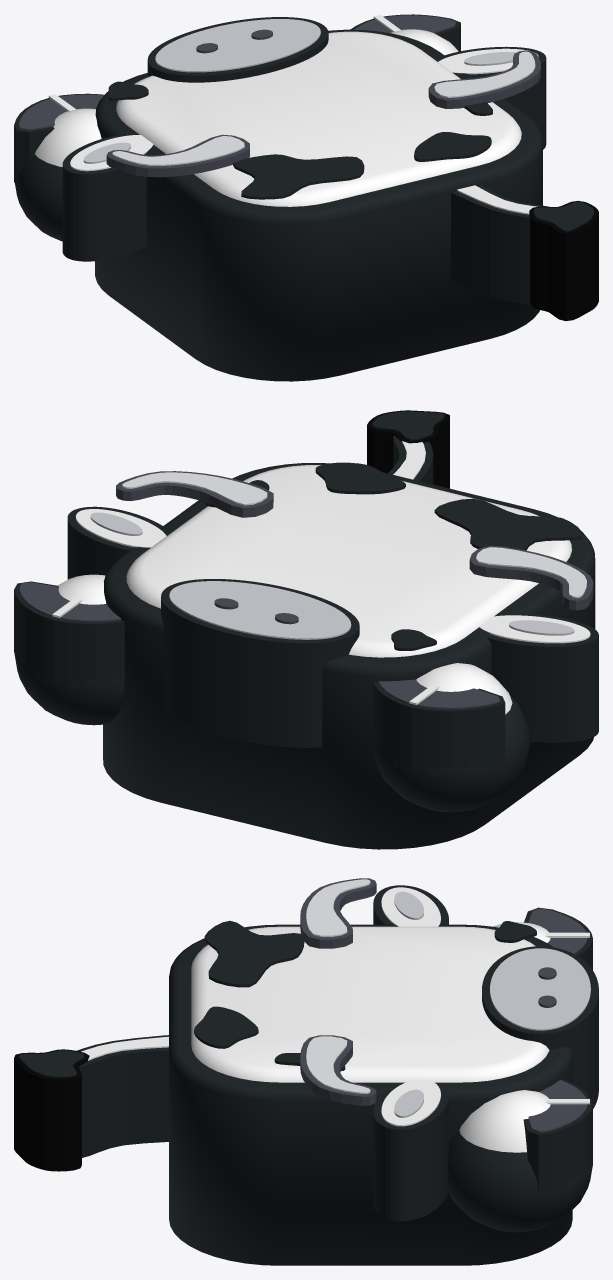
The model's file is body_vaca.fbx.
3 renders of one model, top to bottom at view 1: azimuth 30°, elevation 25°; view 2: azimuth 150°, elevation 25°; view 3: azimuth 270°, elevation 25°, orthographic. The views are drawn at different scales.
Parts seen in each view (by area): view 1: body_vaca_corpo, body_vaca_mao_esq, body_vaca_mao; view 2: body_vaca_corpo, body_vaca_mao_esq, body_vaca_mao; view 3: body_vaca_corpo, body_vaca_mao, body_vaca_mao_esq.
Part boxes in pixels (left/top/right/bottom): body_vaca_corpo: left=62, top=17, right=598, bottom=381; body_vaca_mao_esq: left=14, top=93, right=104, bottom=241; body_vaca_mao: left=350, top=14, right=460, bottom=55; body_vaca_corpo: left=67, top=410, right=598, bottom=849; body_vaca_mao_esq: left=373, top=663, right=530, bottom=812; body_vaca_mao: left=14, top=574, right=124, bottom=725; body_vaca_corpo: left=14, top=878, right=598, bottom=1265; body_vaca_mao: left=447, top=1079, right=592, bottom=1232; body_vaca_mao_esq: left=493, top=907, right=592, bottom=969.
Bounding box in the file's own units: 5.73 × 2.13 × 5.79.
Materials: 1 (1 with a texture image).
